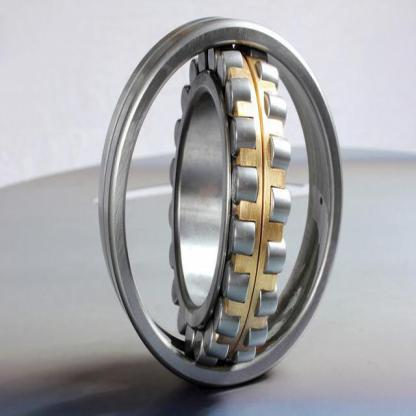FOD: (92, 14, 348, 404)
